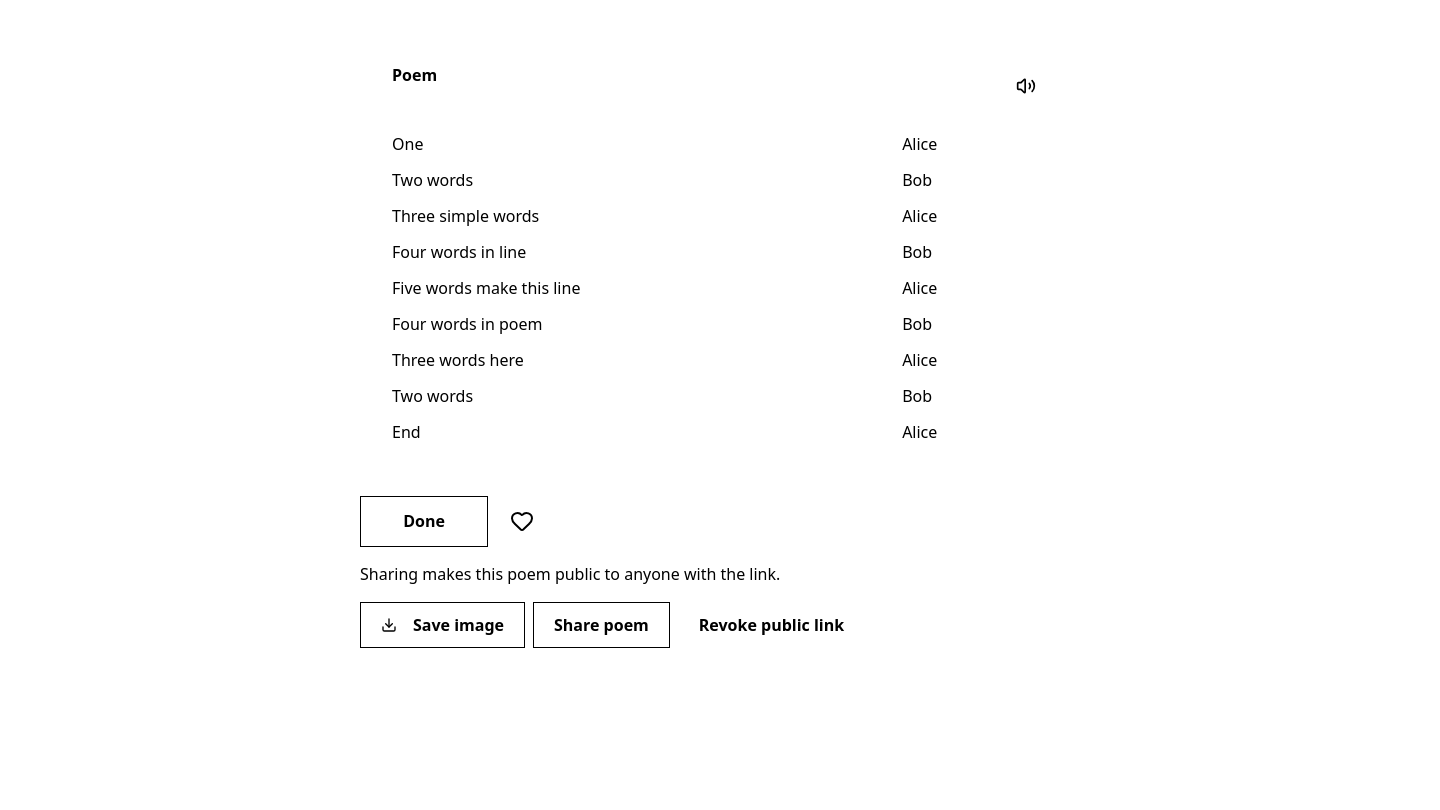
Test: PoemDisplay component › actions › does not claim a public link was revoked until the server accepts it
Click the button "Revoke public link" at (772, 625), box [678, 602, 865, 648]
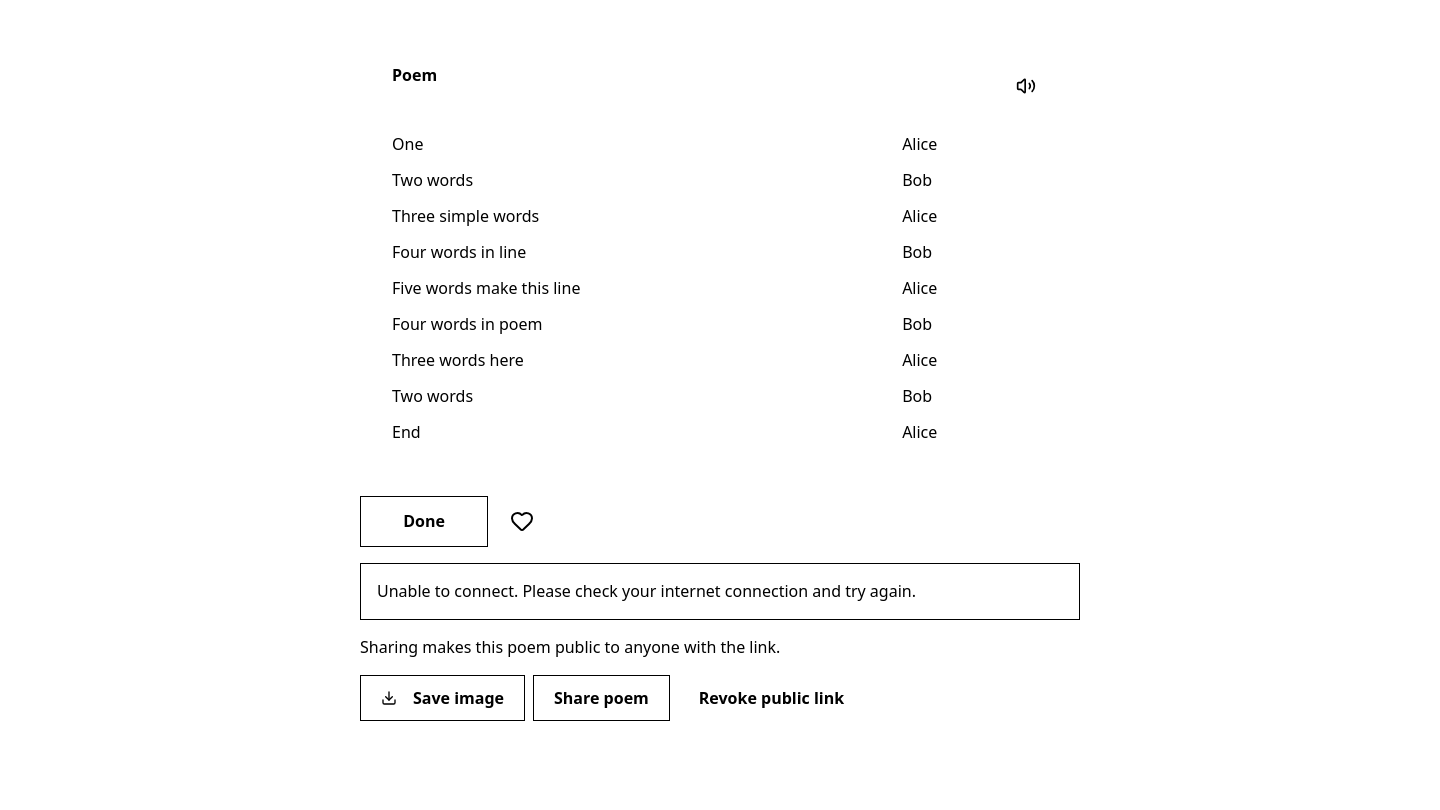
expect the text "Public poem link revoked." is not shown: met
expect the message "Unable to connect. Please check your internet connection and try again." is shown: met, box [360, 563, 1080, 620]
Click the button "Revoke public link" at (772, 698), box [678, 675, 865, 721]
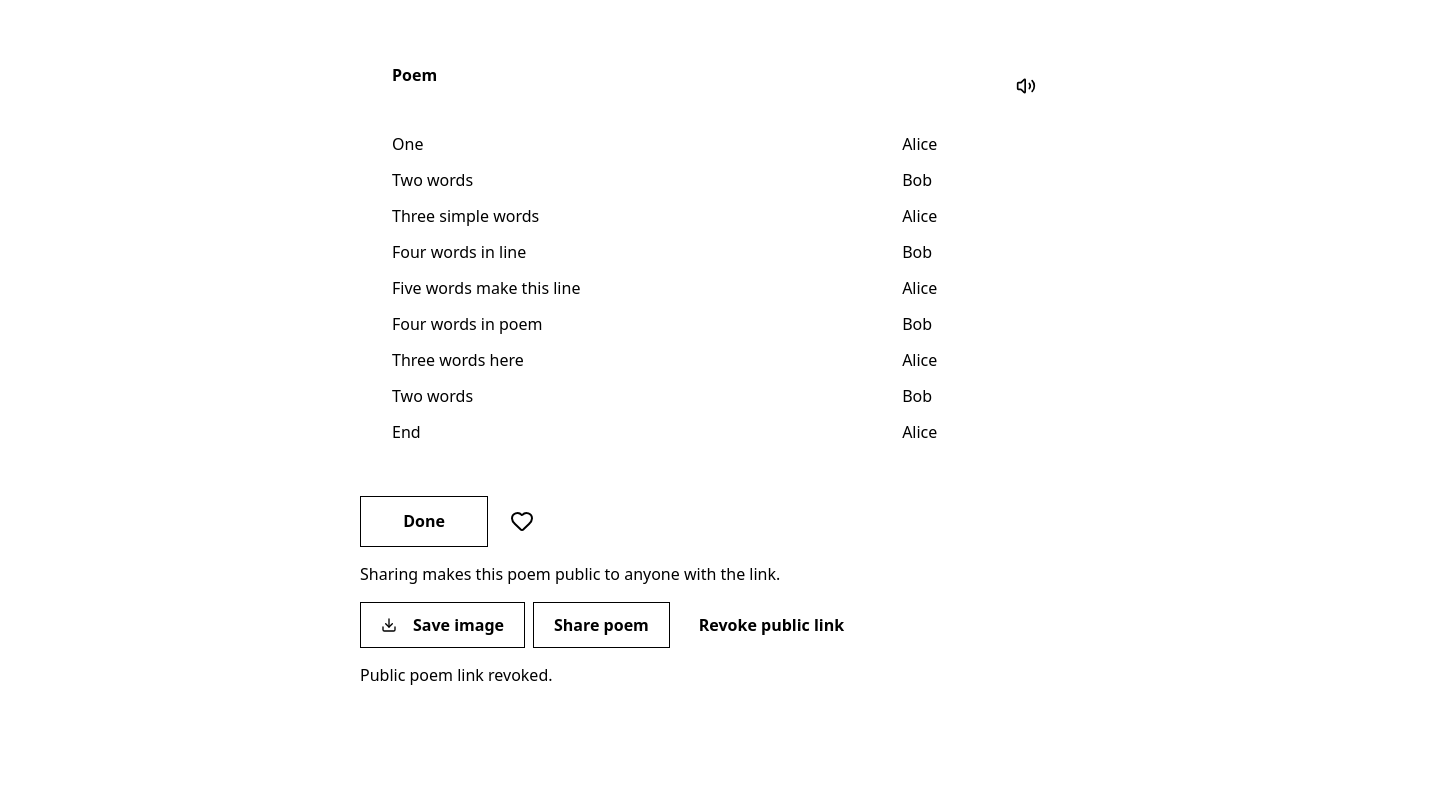
expect the text "Public poem link revoked." is shown: met, box [360, 664, 552, 686]
